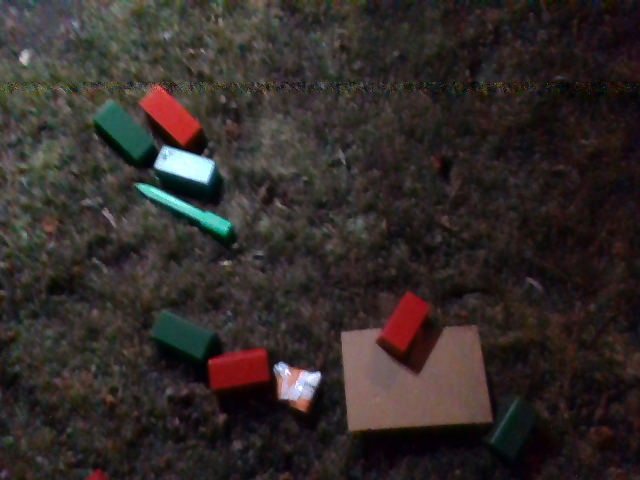Probe: (132, 180, 238, 237)
